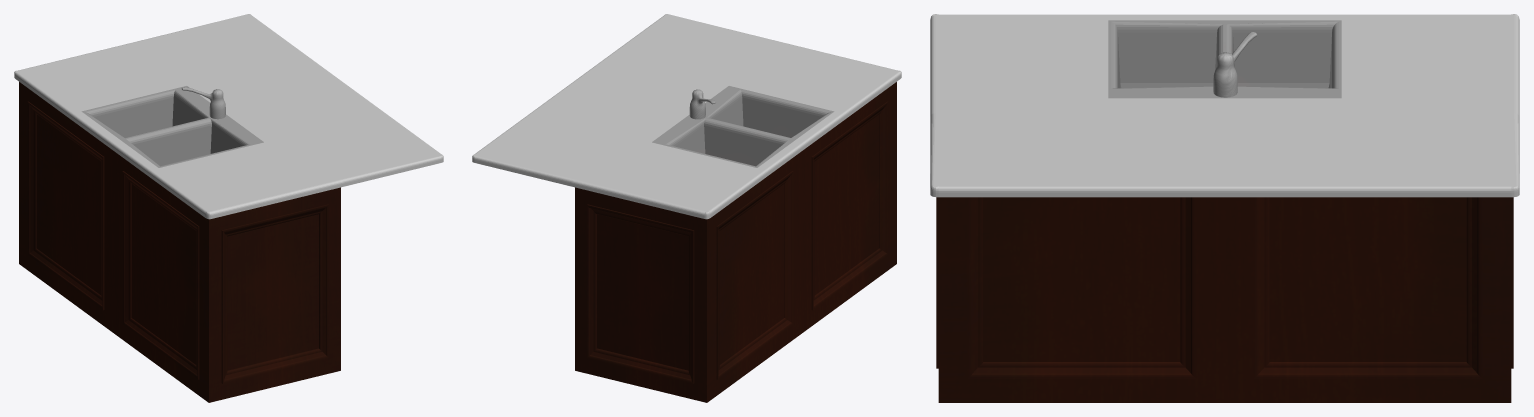
Rendered from KitchenIsland.FBX.
3 renders of one model, left to right at view 1: azimuth 30°, elevation 25°; view 2: azimuth 150°, elevation 25°; view 3: azimuth 270°, elevation 25°, orthographic. The views are drawn at different scales.
Visible parts, largest first — view 1: Box001, CounterTop, Box002, Cylinder001; view 2: Box001, CounterTop, Box002, Cylinder001; view 3: Box001, CounterTop, Box002, Cylinder001.
Boxes of the visible parts, bbox=[...] form: Box001: bbox=[19, 82, 340, 402]; CounterTop: bbox=[14, 14, 443, 219]; Box002: bbox=[81, 86, 263, 167]; Cylinder001: bbox=[181, 87, 225, 119]; Box001: bbox=[575, 82, 896, 402]; CounterTop: bbox=[472, 14, 901, 219]; Box002: bbox=[652, 86, 834, 167]; Cylinder001: bbox=[689, 89, 715, 119]; Box001: bbox=[936, 197, 1513, 402]; CounterTop: bbox=[930, 14, 1519, 197]; Box002: bbox=[1108, 20, 1341, 98]; Cylinder001: bbox=[1213, 32, 1256, 97].
Bounding box in the file's own units: 46.63 × 41.17 × 66.43.
